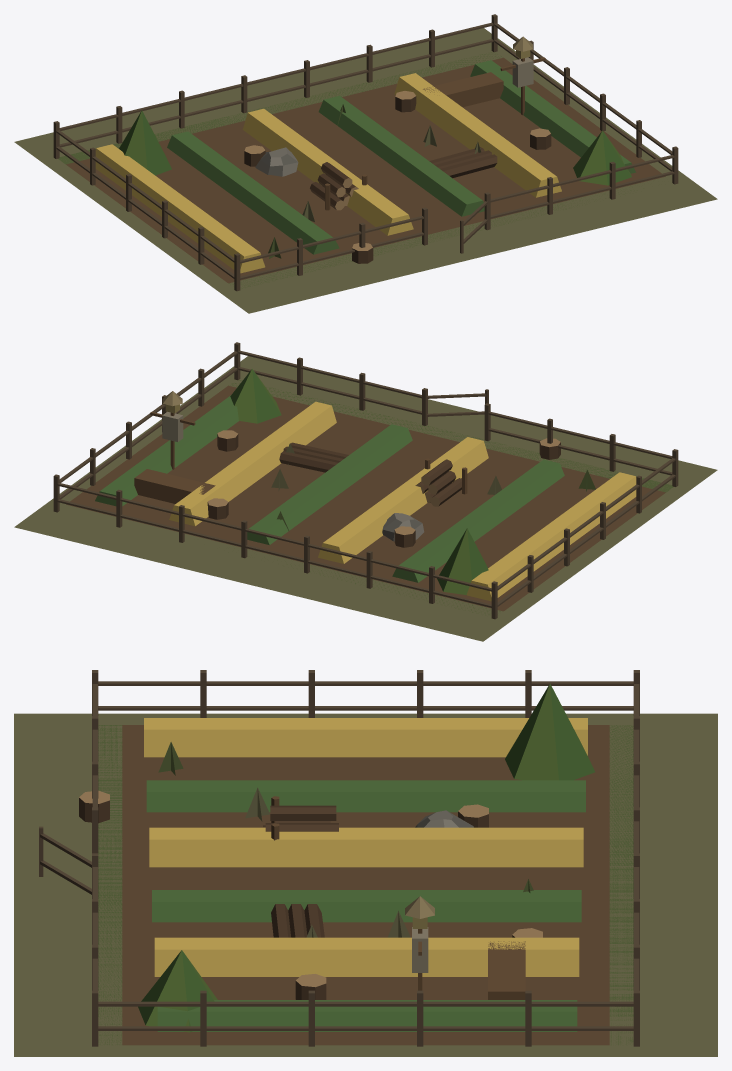
File: umland_stellen.glb
3 views of the same model, one above another, from view 1: azimuth 30°, elevation 25°; view 2: azimuth 150°, elevation 25°; view 3: azimuth 270°, elevation 25° (orthographic). The views are drawn at different scales.
Parts seen in each view (by area): view 1: Feld, Wald, Weide; view 2: Feld, Wald, Weide; view 3: Feld, Wald, Weide.
Boxes of the visible parts, box(x1,y1,x2,y2) form: Feld: box(66, 36, 665, 283); Wald: box(14, 28, 717, 313); Weide: box(53, 14, 678, 291); Feld: box(66, 385, 665, 611); Wald: box(14, 356, 717, 641); Weide: box(53, 342, 678, 619); Feld: box(122, 718, 609, 1045); Wald: box(14, 713, 717, 1056); Weide: box(39, 670, 639, 1046).
Size of the model in its own units: 15 by 2.45 by 13.
